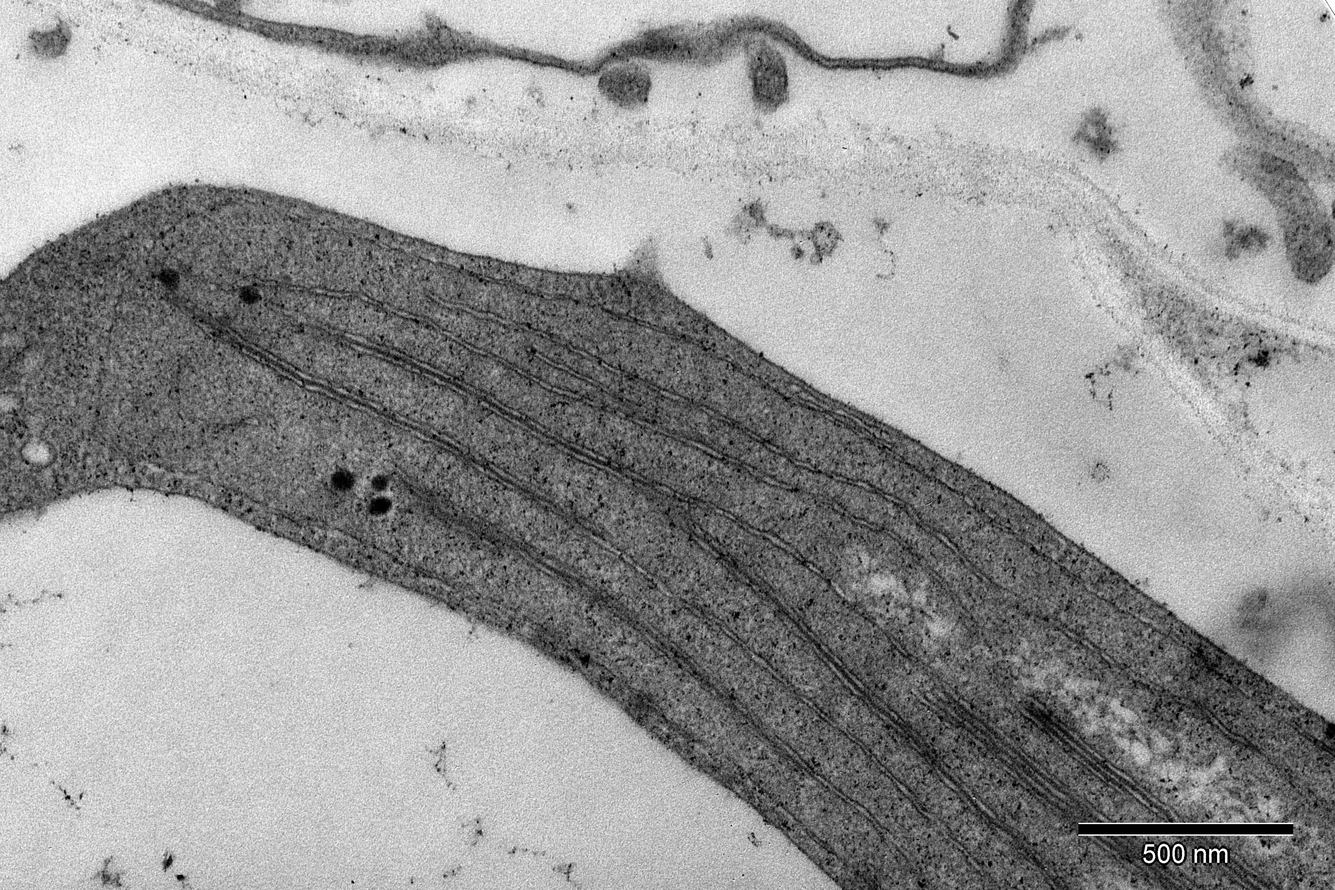granum: (912, 675, 1215, 890), (1007, 688, 1143, 800), (388, 460, 513, 558), (1166, 812, 1286, 889), (878, 707, 917, 750)
